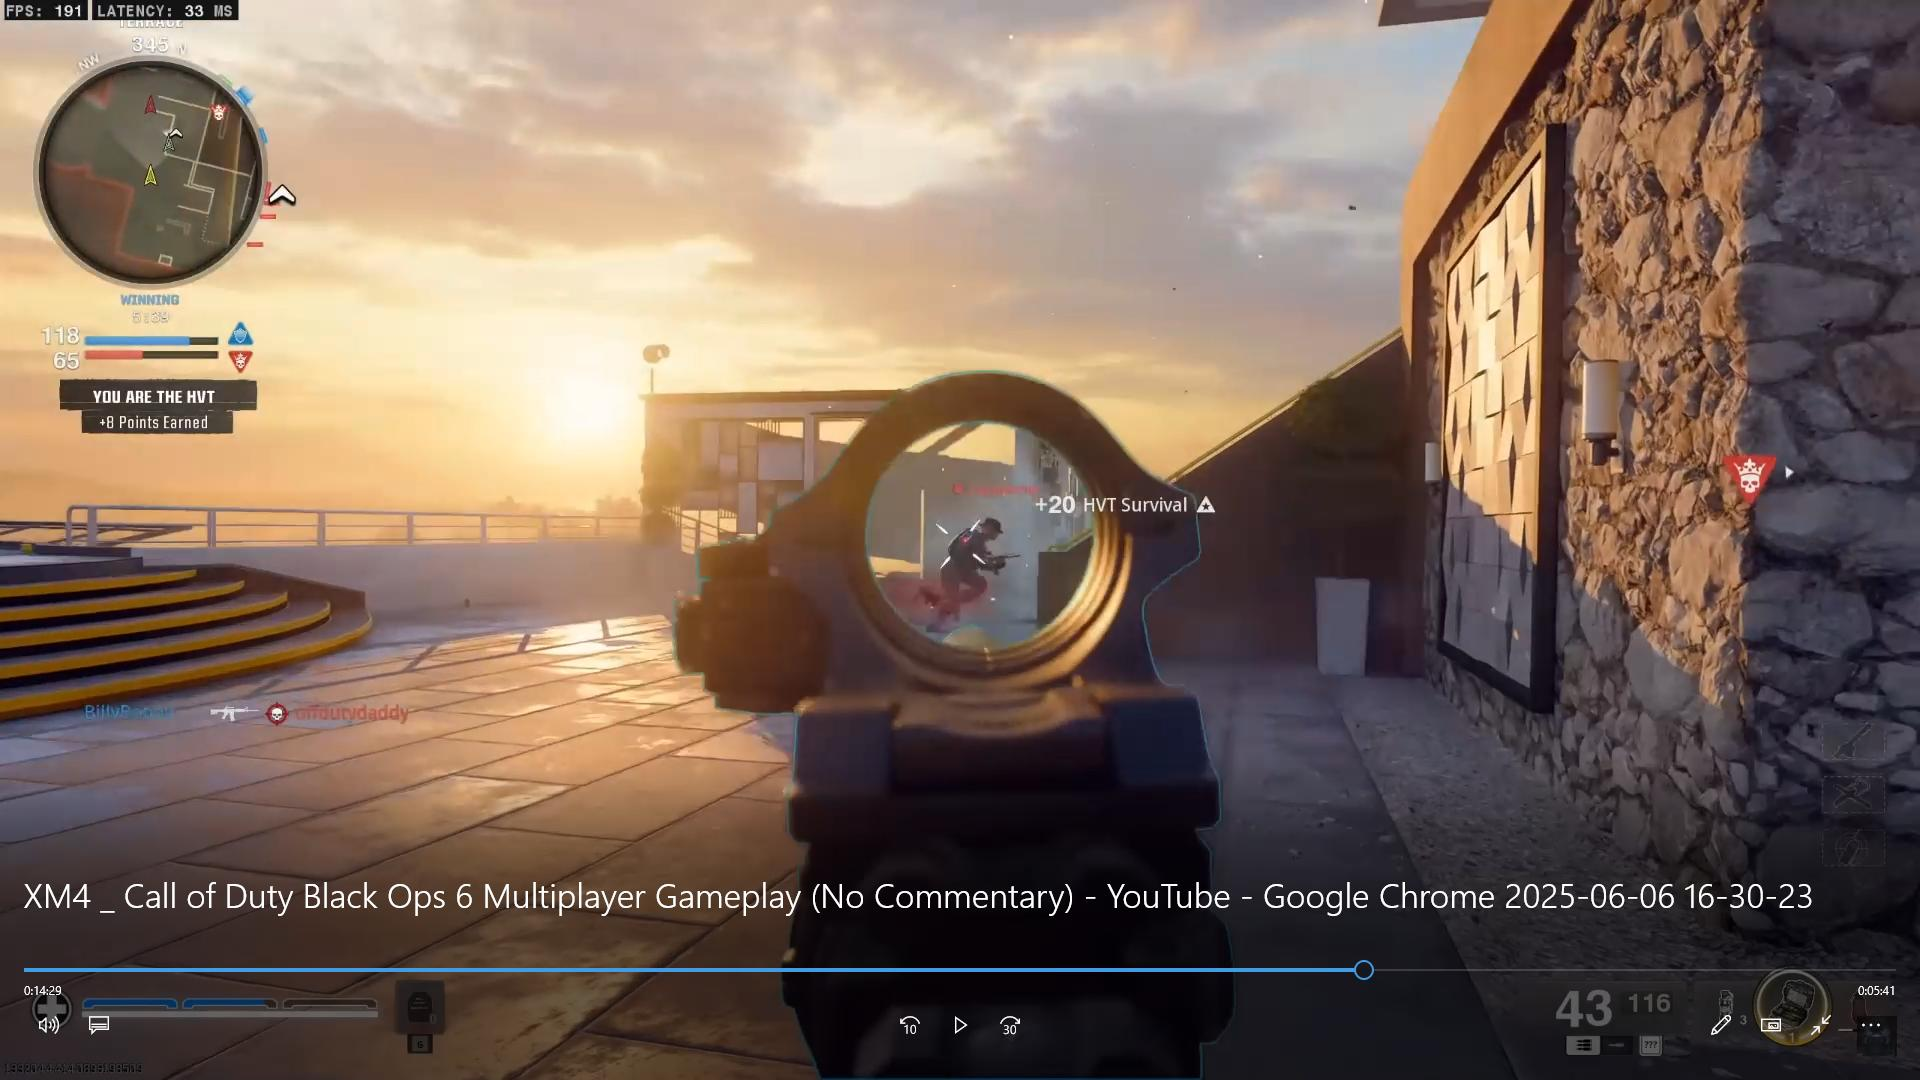Enemy: (939, 475, 1038, 618)
